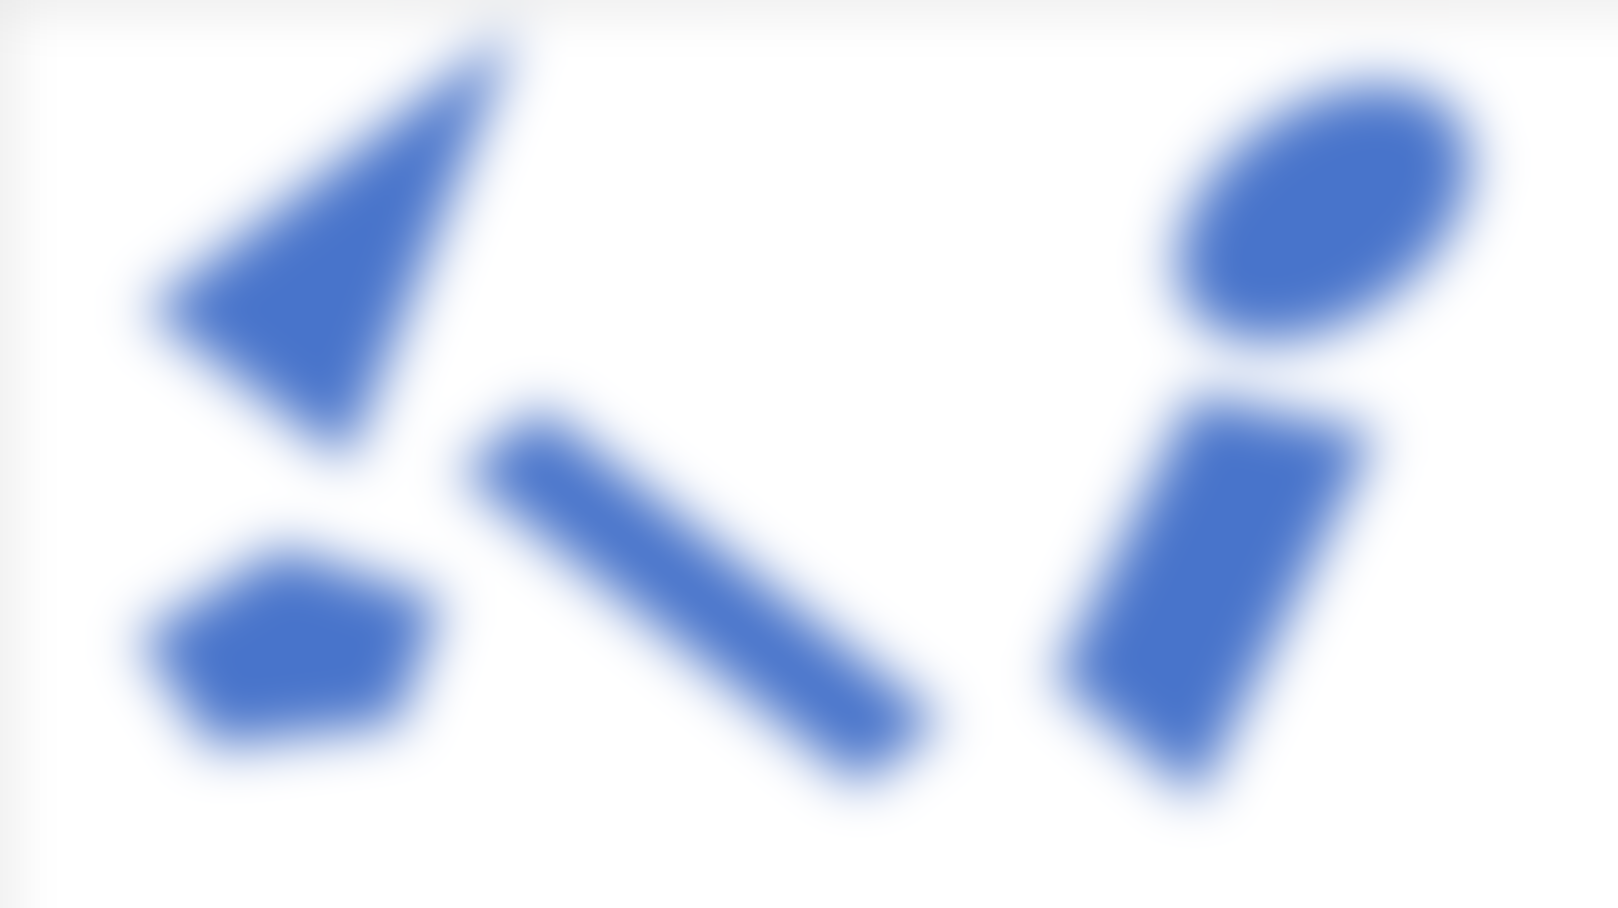circle: (1157, 51, 1474, 342)
parallelogram: (460, 410, 977, 832)
pentagon: (163, 526, 440, 769)
trapezium: (1043, 386, 1394, 817)
triangle: (117, 30, 577, 463)
